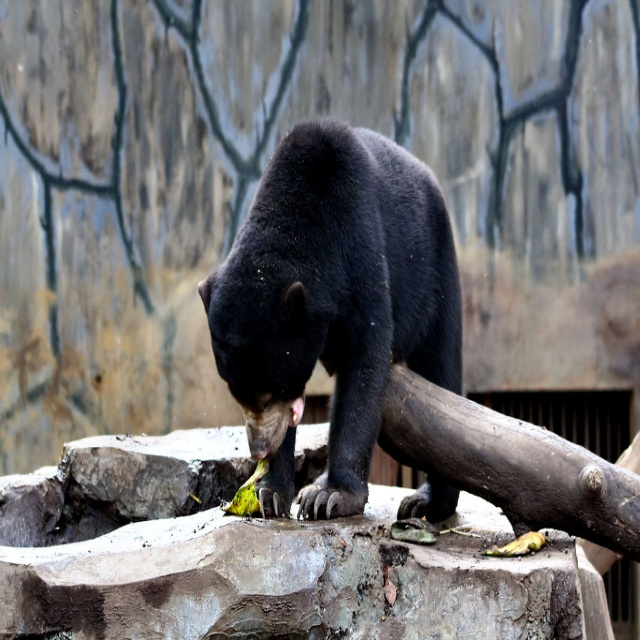Bear: (195, 115, 464, 527)
